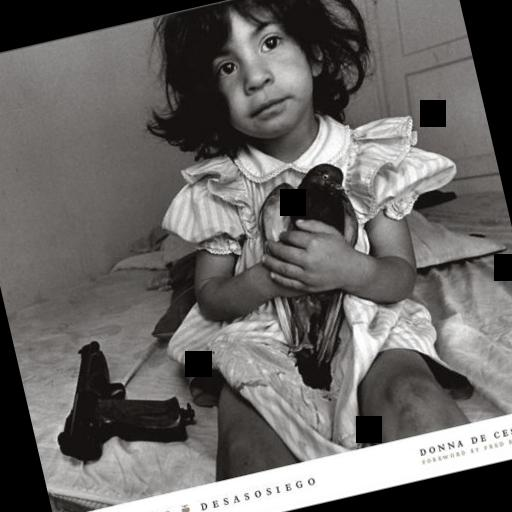Handgun: (30, 306, 210, 484)
